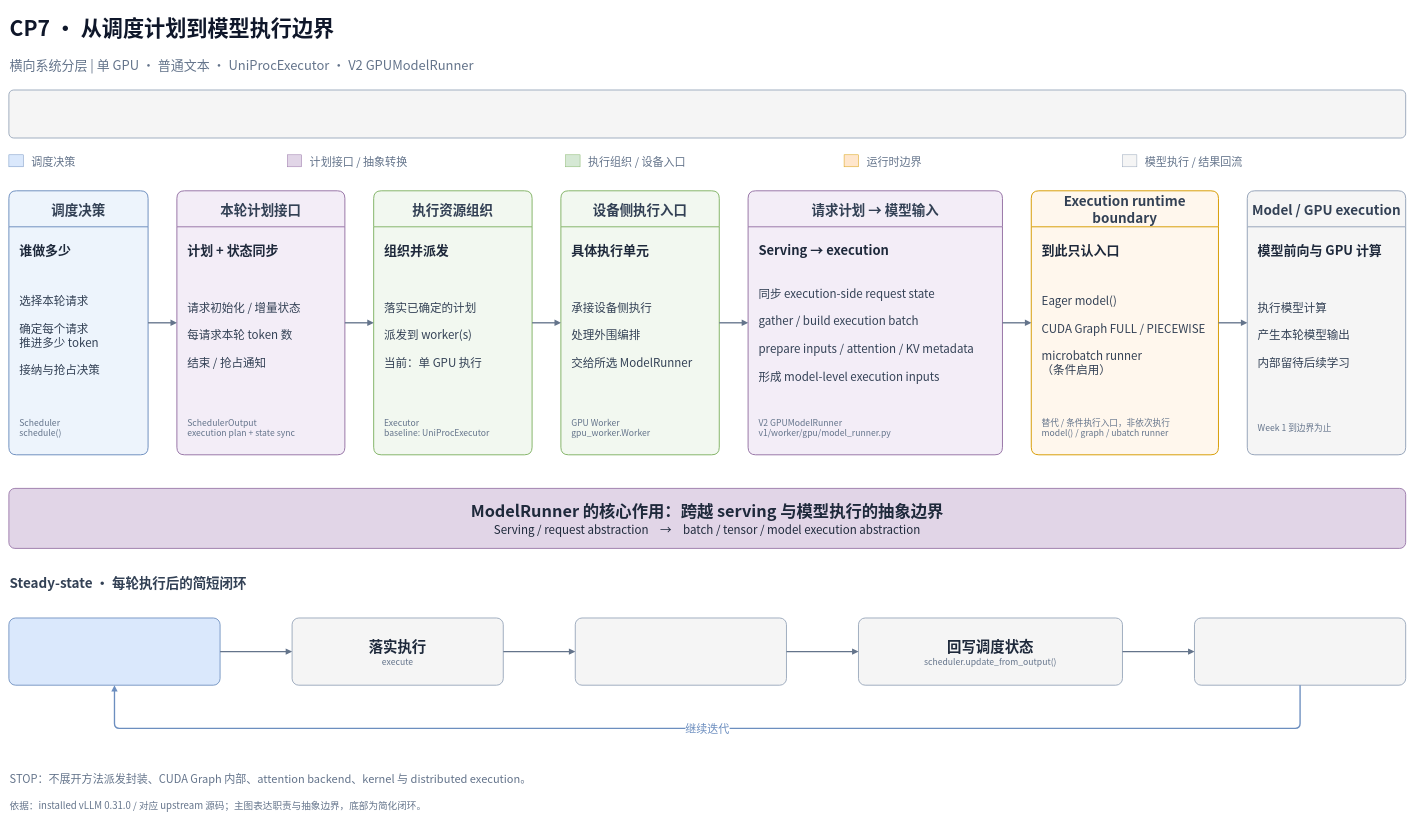
Image size: 1414x823. Some labels were removed from this diagram. Each missing label, with the centre of its shape:
Scheduler 决定“谁做多少”；Executor 决定“怎样组织执行资源去落实计划”。: pixel 707 113
模型输出 / 采样 model output / sampling: pixel 681 651
调度本轮 schedule: pixel 114 651
进入下一轮 next iteration: pixel 1300 651
